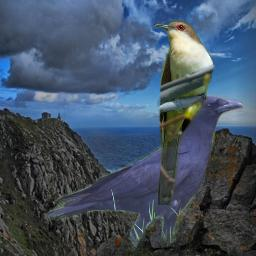Crow: (44, 94, 243, 256)
Cuckoo: (153, 20, 216, 205)
